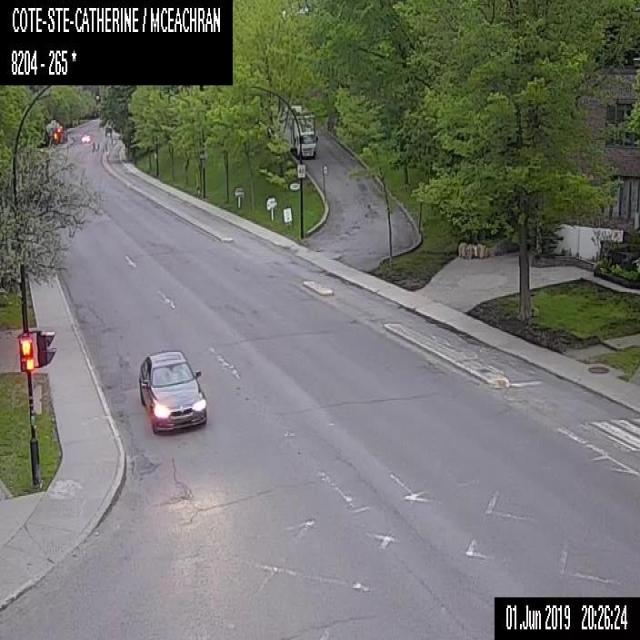pedestrian: (90, 141, 94, 151), (95, 141, 99, 149)
vehicle: (137, 348, 205, 436), (289, 103, 318, 159), (81, 134, 90, 142)
